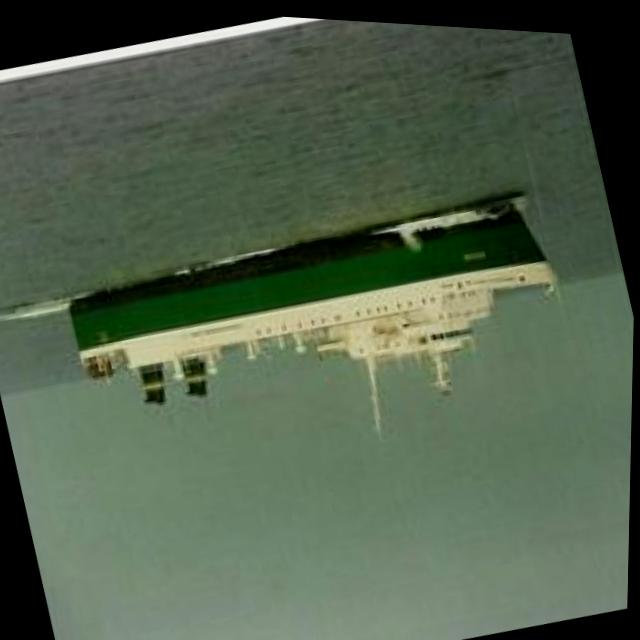ship2: (69, 192, 559, 415)
